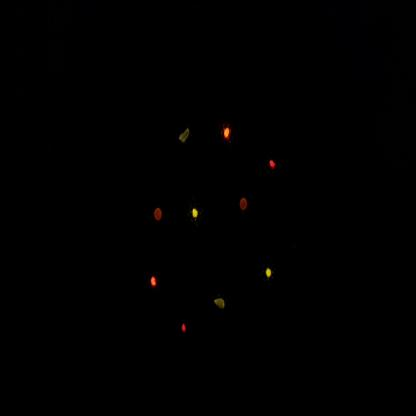PE: (257, 258, 280, 293), (187, 197, 203, 239)
PET: (267, 145, 290, 190), (172, 315, 201, 346)
PP: (174, 119, 198, 157), (212, 285, 234, 323)
PS: (150, 201, 166, 231), (238, 189, 253, 220)
PVC: (142, 266, 170, 297), (218, 111, 237, 152)
